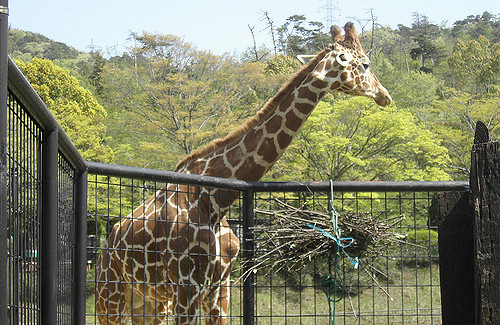giraffe: (101, 21, 394, 321)
